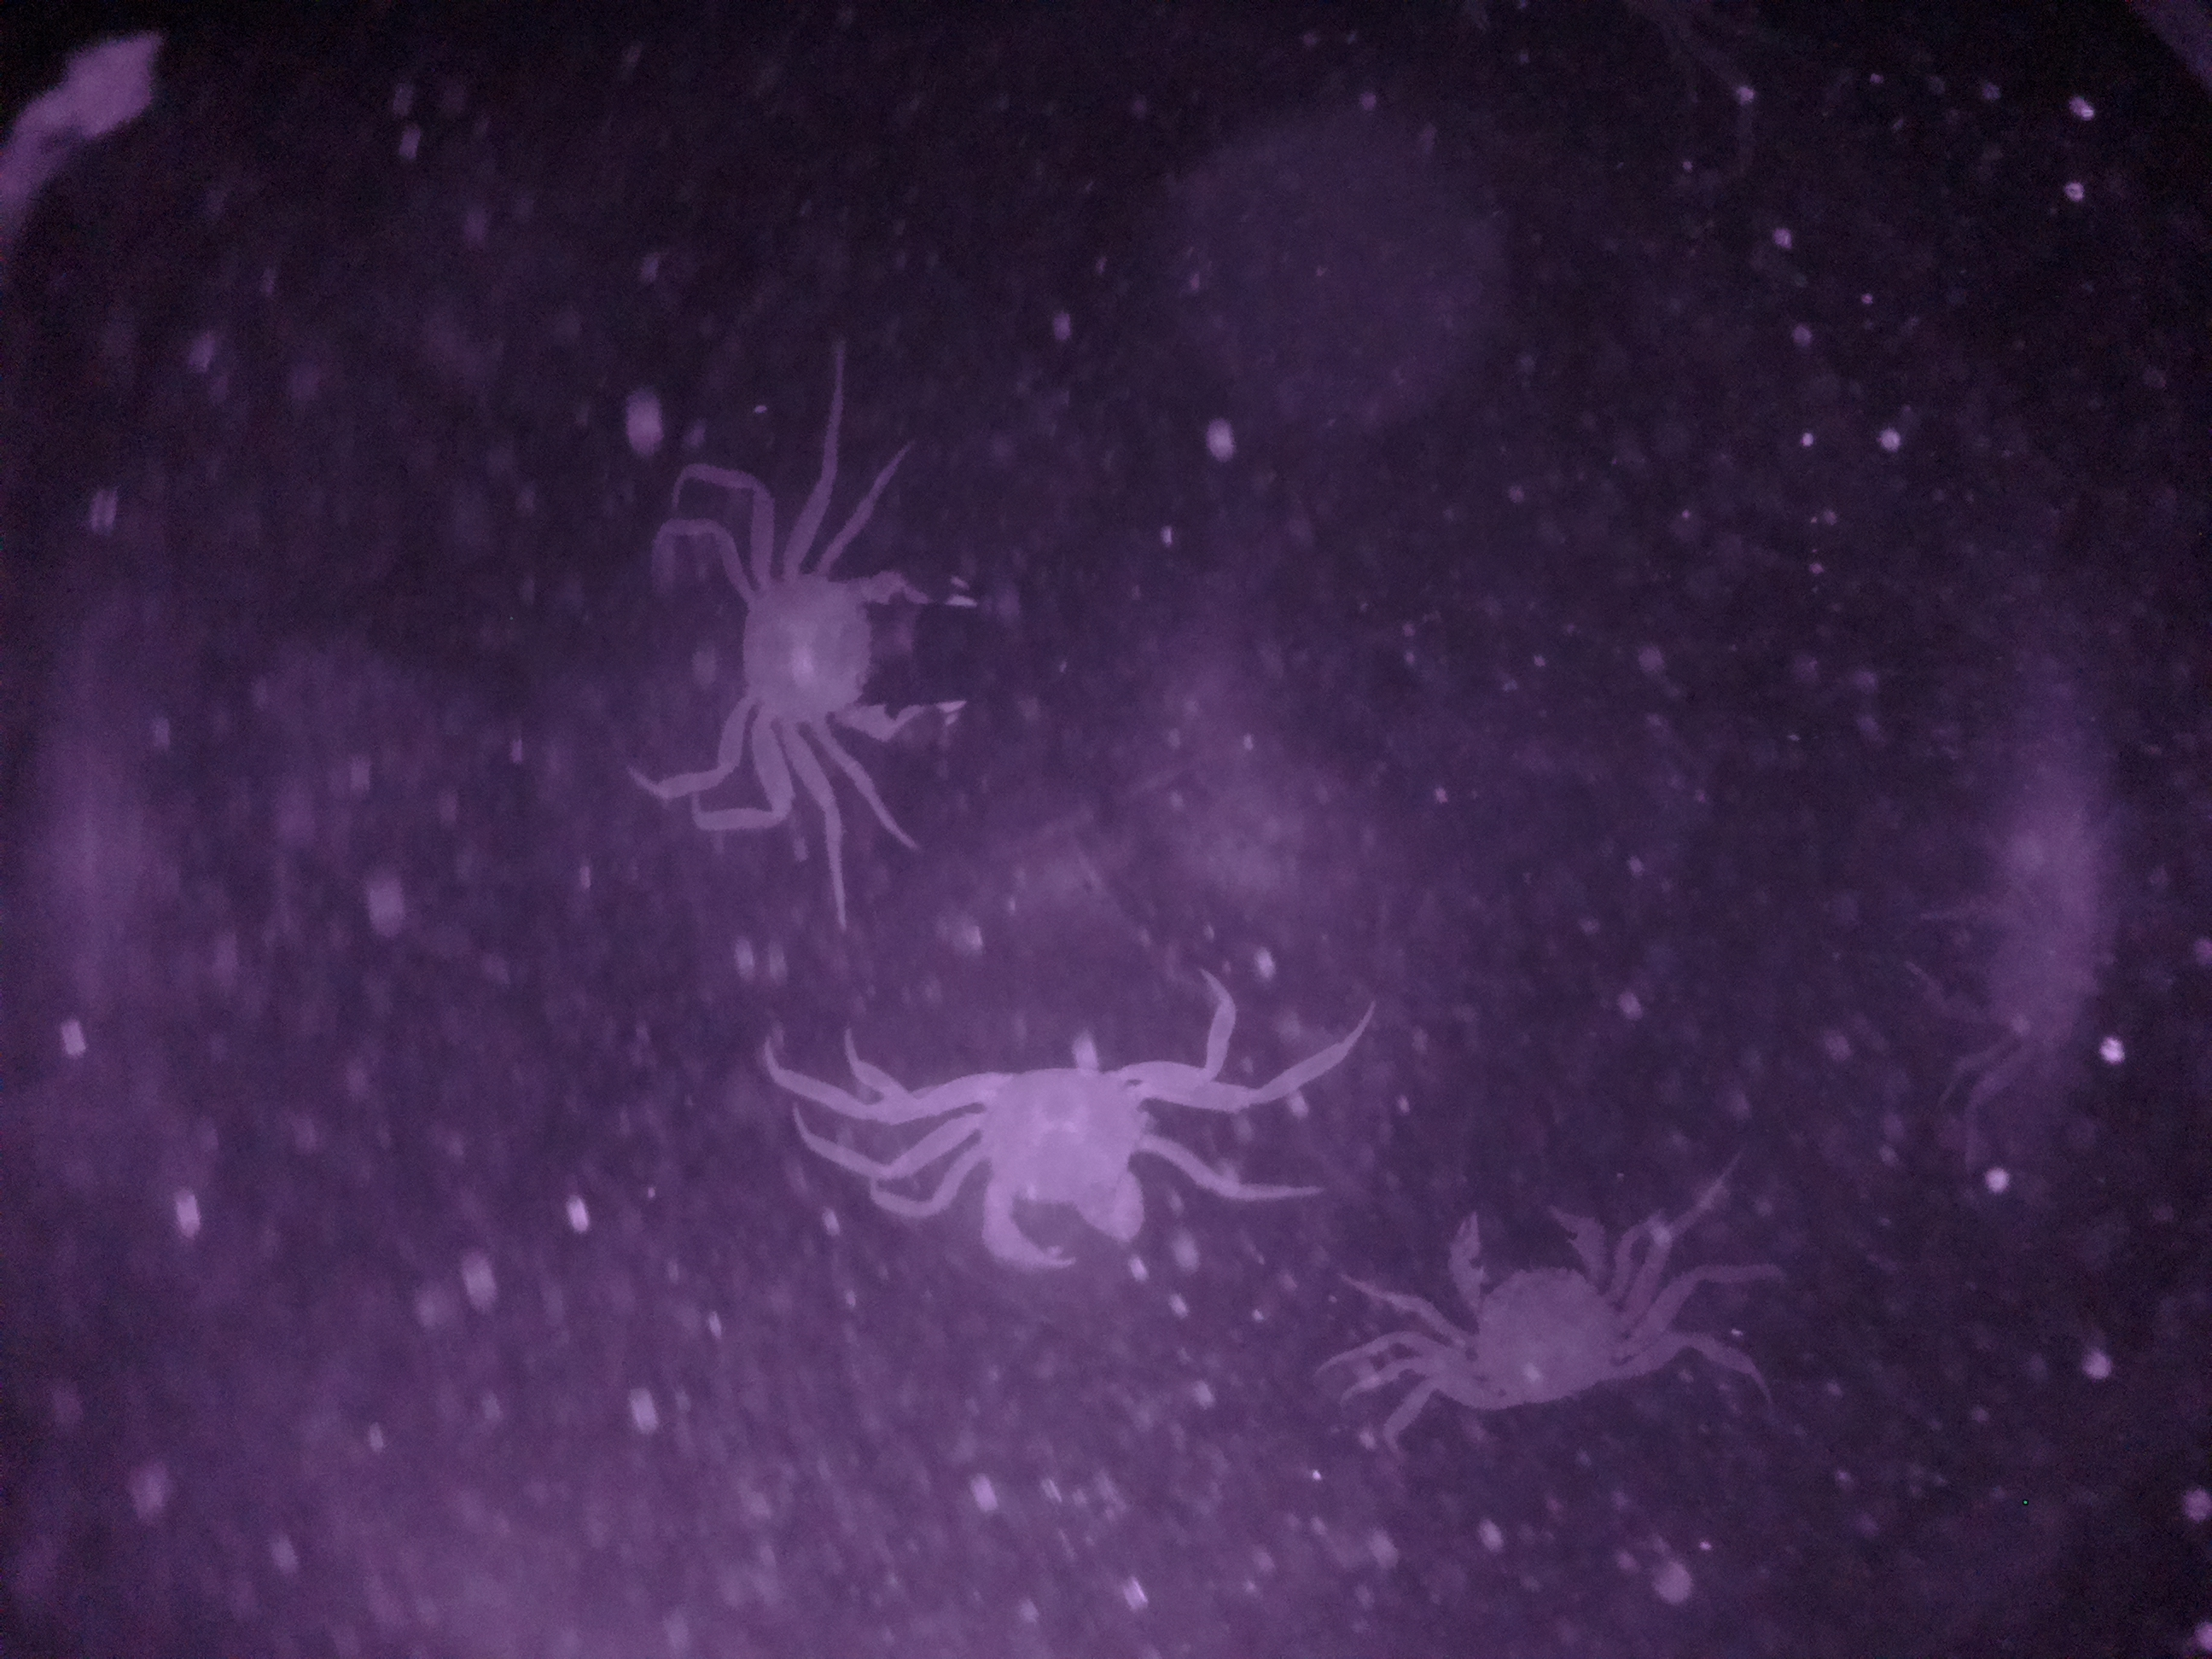Crab: (683, 544, 1008, 769), (930, 1039, 1181, 1305), (1399, 1190, 1658, 1406)
